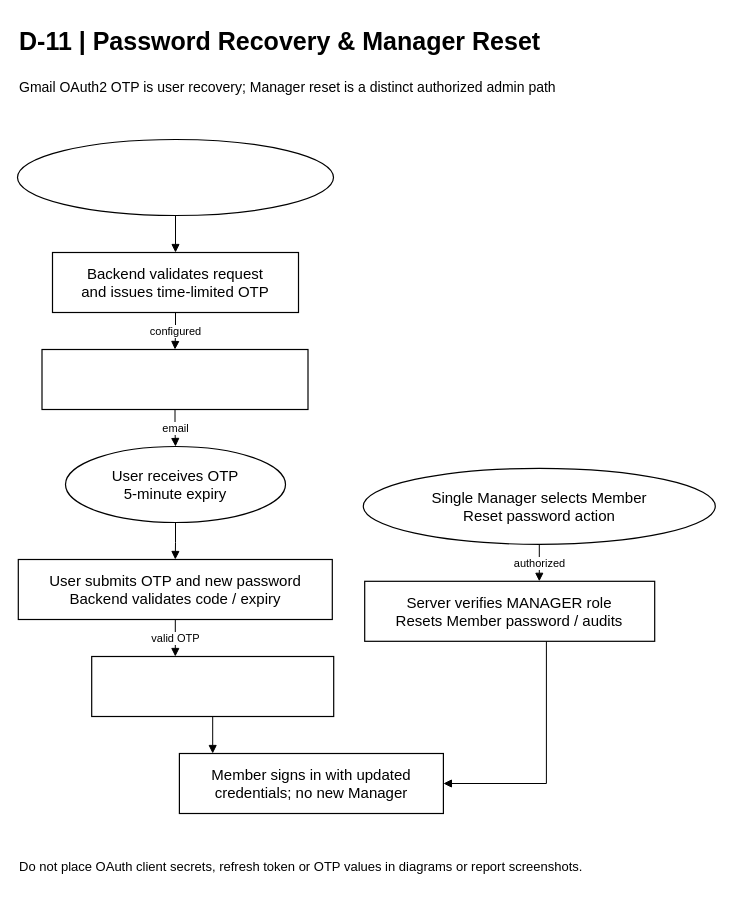
Some shapes in this 735 by 907 pixel diagram are drawn without their labels. The centre of each missing label's shape, as x and y in pixels:
Gmail OAuth2 token exchange + users.messages.send: pixel 174 379
Hash & save new password Account audit / token rules: pixel 212 686
User opens Forgot Password and provides email: pixel 175 177
